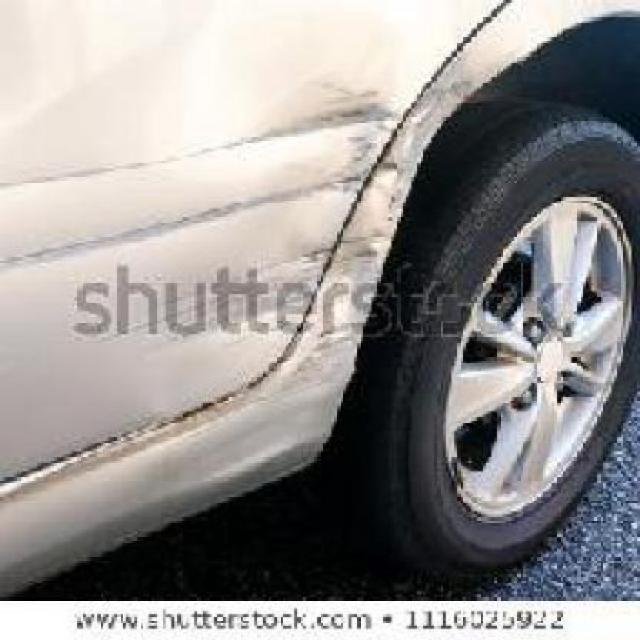dent-or-scratch: (10, 96, 410, 270)
